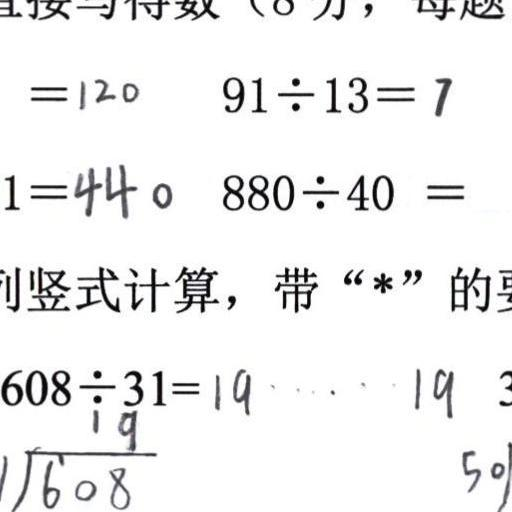ans: (210, 361, 455, 421), (68, 158, 173, 219), (72, 71, 138, 109), (426, 70, 454, 117)
